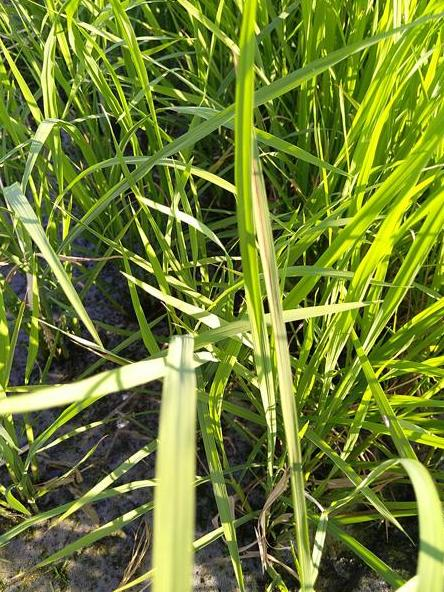Leaf Streak: (249, 161, 295, 476)
